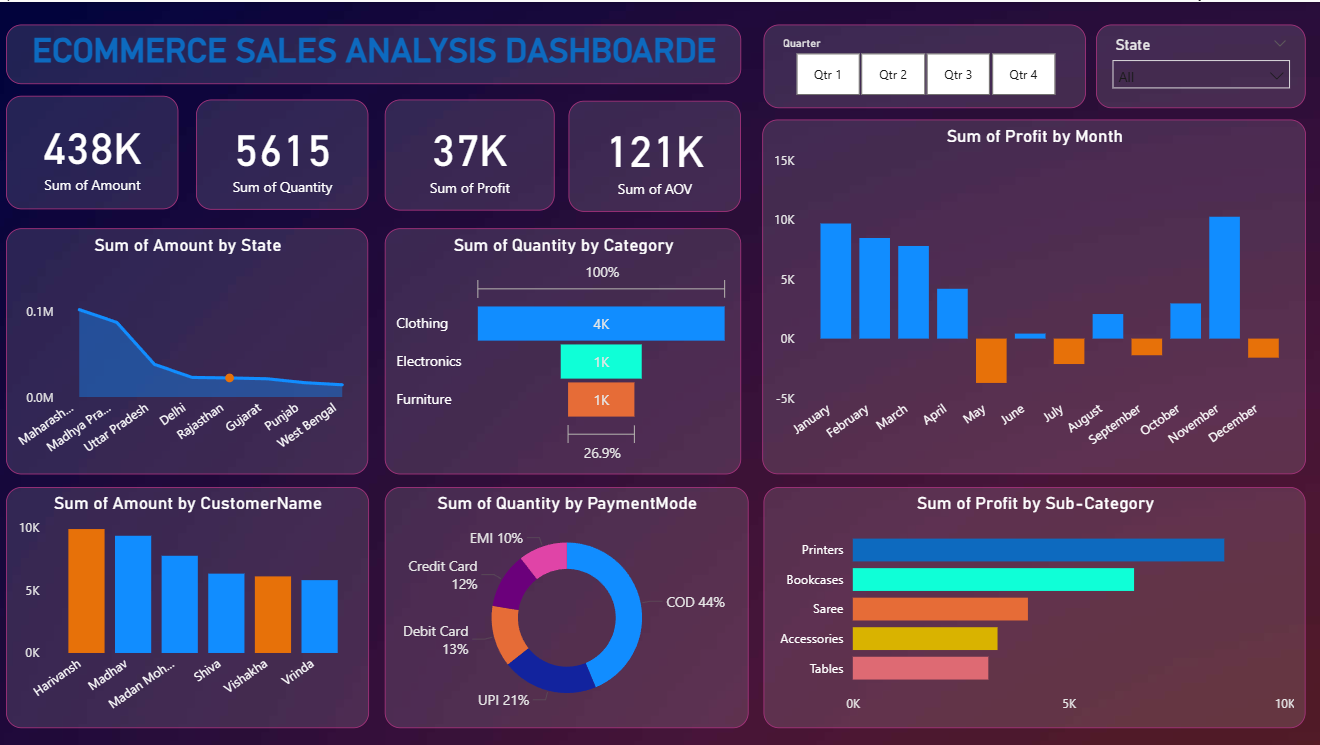

This screenshot's page, from the dashboard's own definition file:
{"tool":"powerbi","page":{"name":"Page 1","canvas":[1280,720],"ordinal":0},"visuals":[{"type":"columnChart","fields":{"Category":["Orders.Order Date.Variation.Date Hierarchy.Month"],"Y":["Sum(Details.Profit)"]},"box":[739.5,113.4,524.8,342.6],"z":0},{"type":"barChart","fields":{"Category":["Details.Sub-Category"],"Y":["Sum(Details.Profit)"]},"box":[740.8,468.1,523.6,232.8],"z":1000},{"type":"funnel","fields":{"Category":["Details.Category"],"Y":["Sum(Details.Quantity)"]},"box":[375.2,218.4,343.8,237.7],"z":2000},{"type":"donutChart","fields":{"Category":["Details.PaymentMode"],"Y":["Sum(Details.Quantity)"]},"box":[375.2,468.1,351.1,232.8],"z":3000},{"type":"card","fields":{"Values":["Sum(Details.Amount)"]},"box":[9.7,90.5,166.5,109.8],"z":4000},{"type":"card","fields":{"Values":["Sum(Details.Quantity)"]},"box":[193,94.1,166.5,106.2],"z":5000},{"type":"card","fields":{"Values":["Sum(Details.Profit)"]},"box":[375.2,94.1,164.1,107.4],"z":6000},{"type":"card","fields":{"Values":["Sum(Details.AOV)"]},"box":[552.5,95.3,166.5,107.4],"z":7000},{"type":"areaChart","fields":{"Category":["Orders.State"],"Y":["Sum(Details.Amount)"]},"box":[9.7,218.4,349.9,237.7],"z":8000},{"type":"columnChart","fields":{"Category":["Orders.CustomerName"],"Y":["Sum(Details.Amount)"]},"box":[10,468,350,233],"z":9000},{"type":"textbox","title":"ECOMMERCE SALES ANALYSIS DASHBOARDE","box":[9.7,21.7,709.4,57.9],"z":10000},{"type":"slicer","fields":{"Values":["Orders.State"]},"box":[1061.7,21.7,202.7,80.8],"z":11000},{"type":"slicer","fields":{"Values":["Orders.Order Date.Variation.Date Hierarchy.Quarter"]},"box":[740.8,21.7,311.3,80.8],"z":12000}]}

Visuals, with their boxes in screenshot pixels (x1, y1, x2, y2), scaled from the page's 1280x720 canvas onto the 1320x745 screenshot:
columnChart - Orders.Order Date.Variation.Date Hierarchy.Month x Sum(Details.Profit): [x1=763, y1=117, x2=1304, y2=472]
barChart - Details.Sub-Category x Sum(Details.Profit): [x1=764, y1=484, x2=1304, y2=725]
funnel - Details.Category x Sum(Details.Quantity): [x1=387, y1=226, x2=741, y2=472]
donutChart - Details.PaymentMode x Sum(Details.Quantity): [x1=387, y1=484, x2=749, y2=725]
card - Sum(Details.Amount): [x1=10, y1=94, x2=182, y2=207]
card - Sum(Details.Quantity): [x1=199, y1=97, x2=371, y2=207]
card - Sum(Details.Profit): [x1=387, y1=97, x2=556, y2=208]
card - Sum(Details.AOV): [x1=570, y1=99, x2=741, y2=210]
areaChart - Orders.State x Sum(Details.Amount): [x1=10, y1=226, x2=371, y2=472]
columnChart - Orders.CustomerName x Sum(Details.Amount): [x1=10, y1=484, x2=371, y2=725]
"ECOMMERCE SALES ANALYSIS DASHBOARDE" textbox: [x1=10, y1=22, x2=742, y2=82]
slicer - Orders.State: [x1=1095, y1=22, x2=1304, y2=106]
slicer - Orders.Order Date.Variation.Date Hierarchy.Quarter: [x1=764, y1=22, x2=1085, y2=106]
